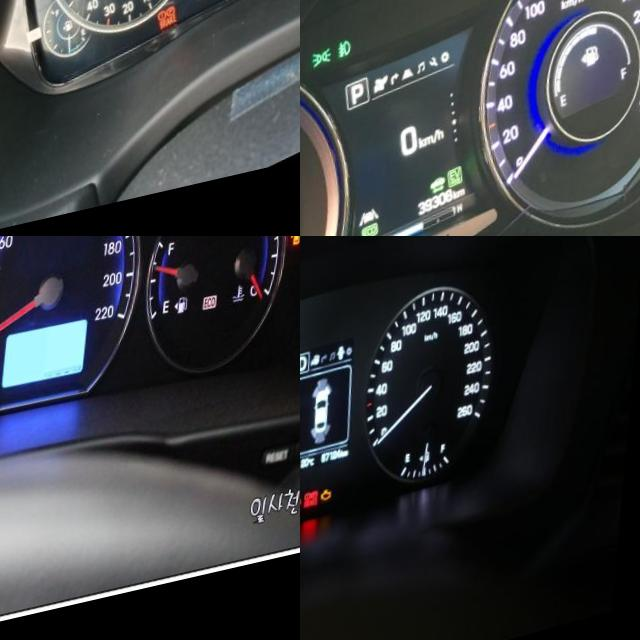FrontFogLight: (340, 48, 356, 69)
SideLamp: (314, 54, 336, 78)
